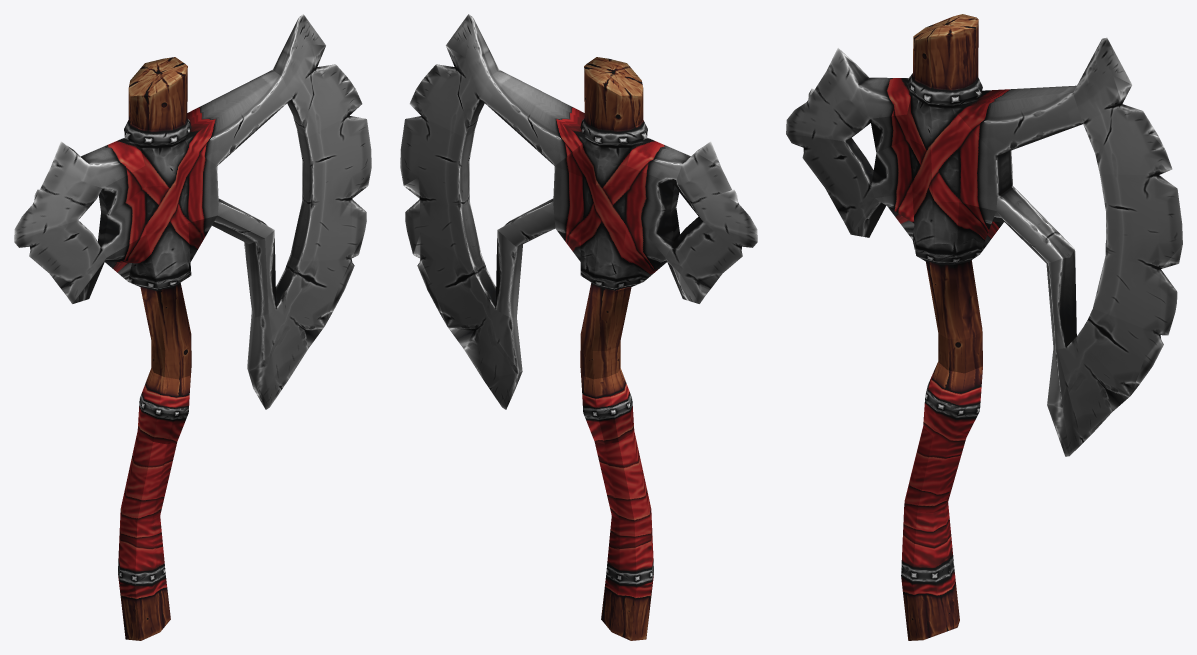
File: GAM0210021.fbx
3 views of the same model, side by side, from view 1: azimuth 30°, elevation 25°; view 2: azimuth 150°, elevation 25°; view 3: azimuth 330°, elevation 25° (orthographic). The views are drawn at different scales.
Parts seen in each view (by area): view 1: smGAM0210021; view 2: smGAM0210021; view 3: smGAM0210021.
Part boxes in pixels (x1,y1,x2,y2): smGAM0210021: (14,14,371,640); smGAM0210021: (400,14,757,640); smGAM0210021: (786,14,1182,640).
Bounding box in the file's own units: 56.38 × 87.68 × 9.55.
1 material, 1 textured.
